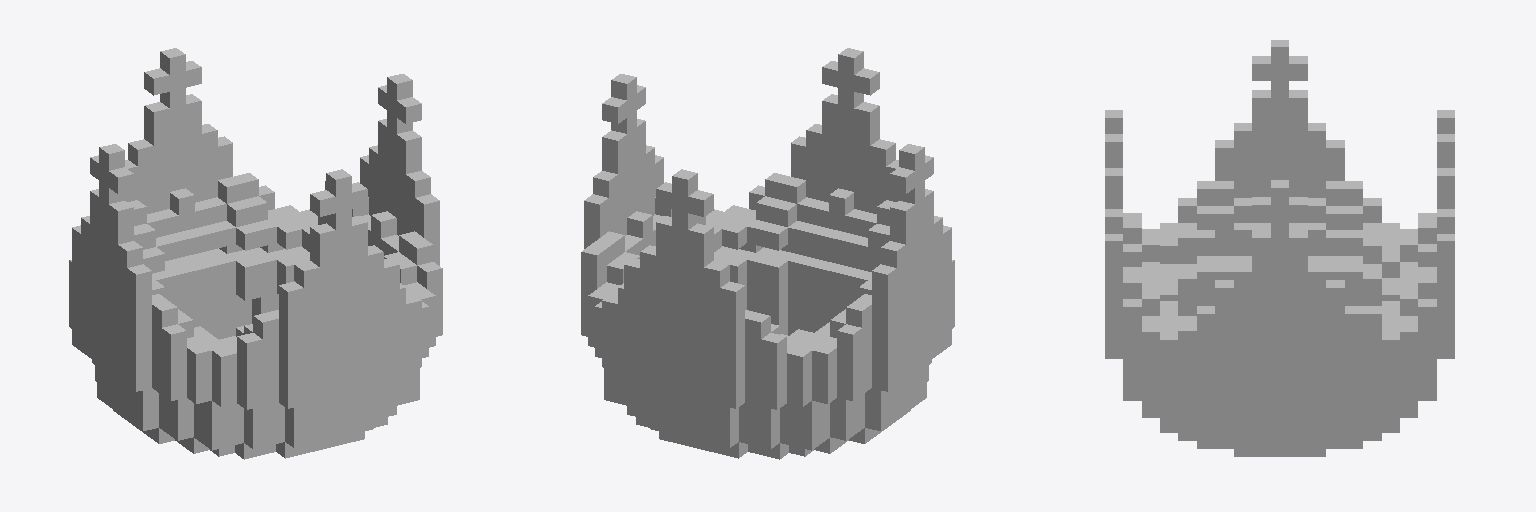
The model's file is crown.vox.obj.
3 renders of one model, left to right at view 1: azimuth 30°, elevation 25°; view 2: azimuth 150°, elevation 25°; view 3: azimuth 270°, elevation 25°, orthographic.
Visible parts, largest first — view 1: object 1; view 2: object 1; view 3: object 1.
Part boxes in pixels (bbox=[...]): object 1: bbox=[69, 48, 442, 459]; object 1: bbox=[581, 48, 954, 459]; object 1: bbox=[1105, 40, 1454, 456].
Size of the model in its own units: 1.9 by 1.7 by 1.9.